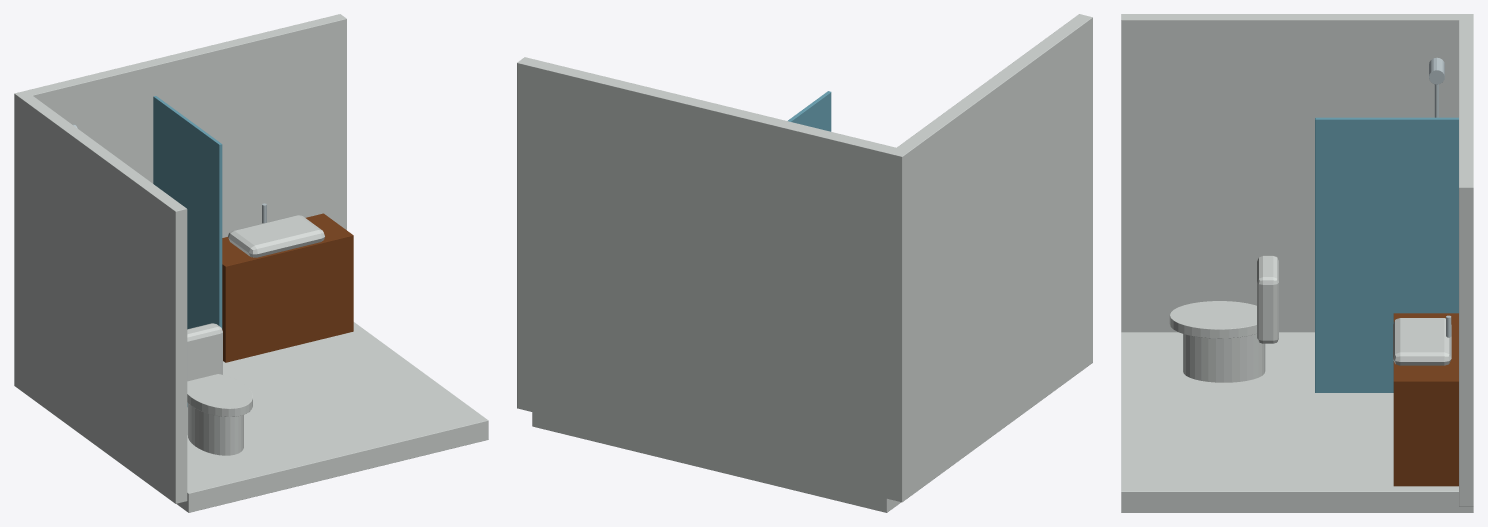
File: edited.glb
3 views of the same model, side by side, from view 1: azimuth 30°, elevation 25°; view 2: azimuth 150°, elevation 25°; view 3: azimuth 270°, elevation 25° (orthographic). The views are drawn at different scales.
Parts seen in each view (by area): view 1: WALL_Left, WALL_Back, FLOOR, VANITY, PARTITION, VANITY_Basin, WC_Seat, WC_Base, WC_Cistern; view 2: WALL_Back, WALL_Left, FLOOR, PARTITION; view 3: WALL_Left, FLOOR, PARTITION, VANITY, WALL_Back, WC_Base, WC_Seat, VANITY_Basin, WC_Cistern, SHOWER_Tray.
Part boxes in pixels (bbox=[...]): WALL_Left: bbox=[14, 90, 187, 503]; WALL_Back: bbox=[14, 14, 346, 389]; FLOOR: bbox=[176, 322, 488, 512]; VANITY: bbox=[222, 213, 353, 362]; PARTITION: bbox=[153, 96, 222, 329]; VANITY_Basin: bbox=[228, 215, 324, 257]; WC_Seat: bbox=[187, 374, 252, 416]; WC_Base: bbox=[187, 403, 243, 455]; WC_Cistern: bbox=[187, 323, 222, 381]; WALL_Back: bbox=[517, 57, 909, 501]; WALL_Left: bbox=[889, 14, 1092, 502]; FLOOR: bbox=[532, 404, 901, 512]; PARTITION: bbox=[788, 91, 831, 131]; WALL_Left: bbox=[1121, 14, 1472, 332]; FLOOR: bbox=[1121, 332, 1473, 512]; PARTITION: bbox=[1315, 117, 1458, 384]; VANITY: bbox=[1393, 313, 1458, 486]; WALL_Back: bbox=[1459, 14, 1473, 506]; WC_Base: bbox=[1183, 334, 1265, 382]; WC_Seat: bbox=[1169, 301, 1256, 338]; VANITY_Basin: bbox=[1393, 318, 1451, 365]; WC_Cistern: bbox=[1257, 255, 1278, 343]; SHOWER_Tray: bbox=[1315, 385, 1393, 392].
Bounding box in the file's own units: 2.8 × 2.5 × 2.4.
